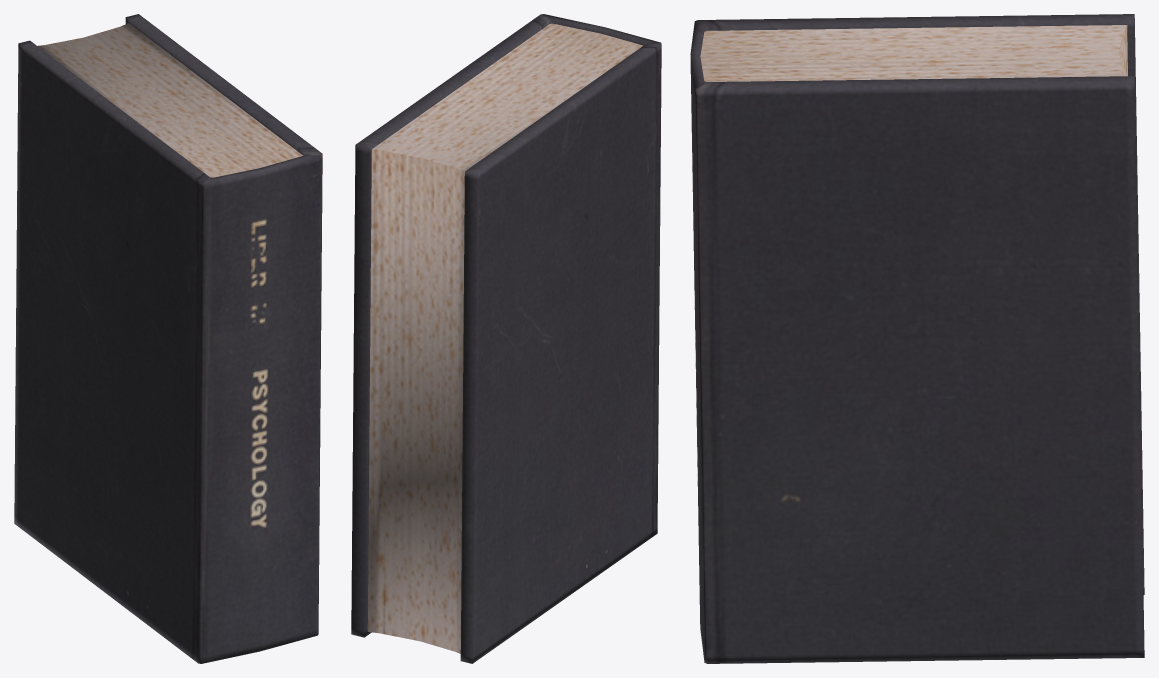
The model's file is SM_prop_Laboratory_Book_01.fbx.
The picture shows the model from 3 angles, left to right: view 1: azimuth 30°, elevation 25°; view 2: azimuth 150°, elevation 25°; view 3: azimuth 270°, elevation 25°; orthographic projection. The views are drawn at different scales.
Visible parts, largest first — view 1: SM_prop_Laboratory_Book_01; view 2: SM_prop_Laboratory_Book_01; view 3: SM_prop_Laboratory_Book_01.
Part boxes in pixels (left/top/right/bottom): SM_prop_Laboratory_Book_01: left=14, top=14, right=322, bottom=663; SM_prop_Laboratory_Book_01: left=351, top=14, right=661, bottom=663; SM_prop_Laboratory_Book_01: left=690, top=14, right=1144, bottom=663.
Size of the model in its own units: 4.92 by 19.07 by 13.52.
Materials: 1 (1 with a texture image).
